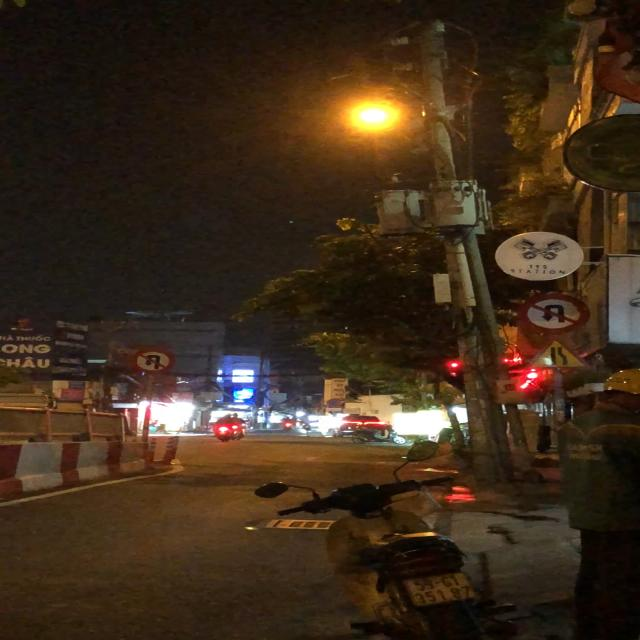Bien bao cam quay dau xe: (516, 293, 590, 332), (131, 346, 178, 374)
Bien bao duong bi thu hep: (523, 338, 598, 371)
